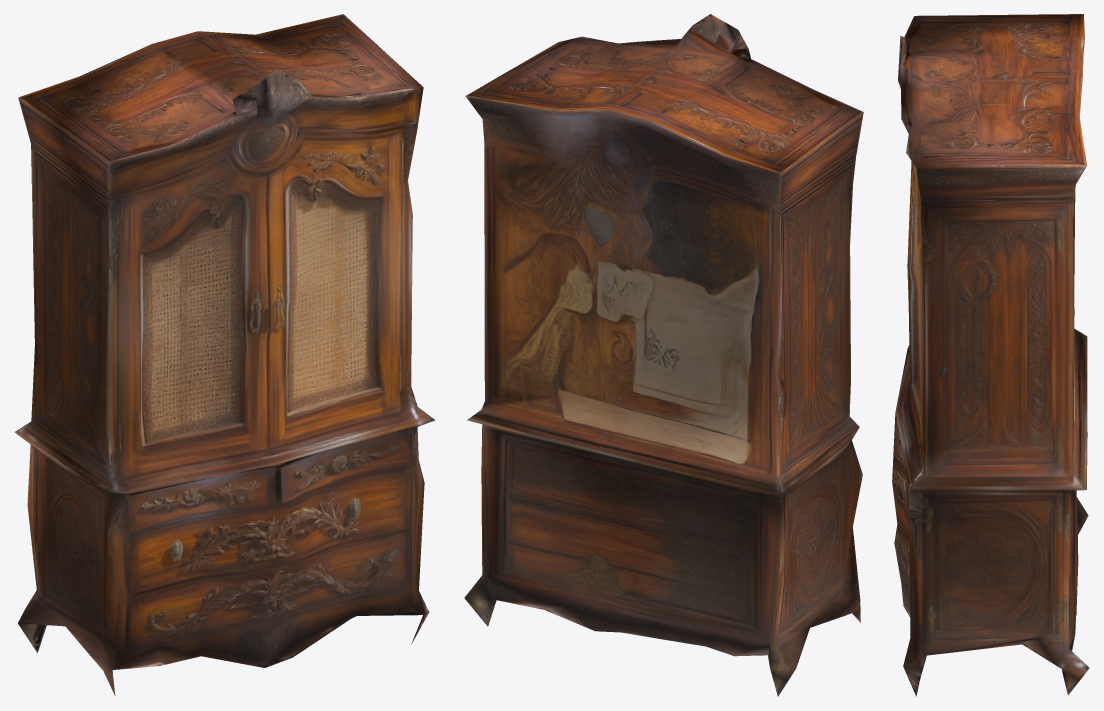
Rendered from Vintage Aparador.glb.
3 renders of one model, left to right at view 1: azimuth 30°, elevation 25°; view 2: azimuth 150°, elevation 25°; view 3: azimuth 270°, elevation 25°, orthographic. The views are drawn at different scales.
Size of the model in its own units: 1.07 by 1.89 by 0.5692.
Materials: 1 (1 with a texture image).
